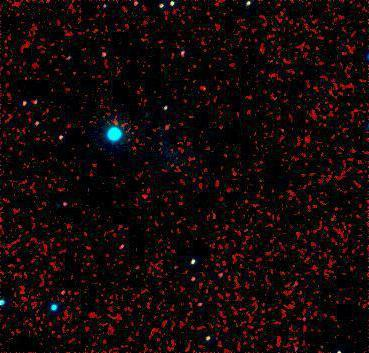star: (127, 187, 157, 217)
